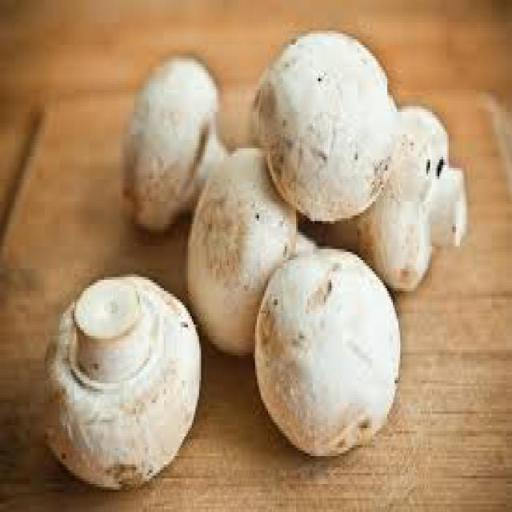Button Mushroom: (46, 274, 202, 486), (256, 246, 399, 456), (183, 146, 317, 346), (262, 28, 399, 220), (374, 98, 470, 286), (123, 58, 231, 216)
